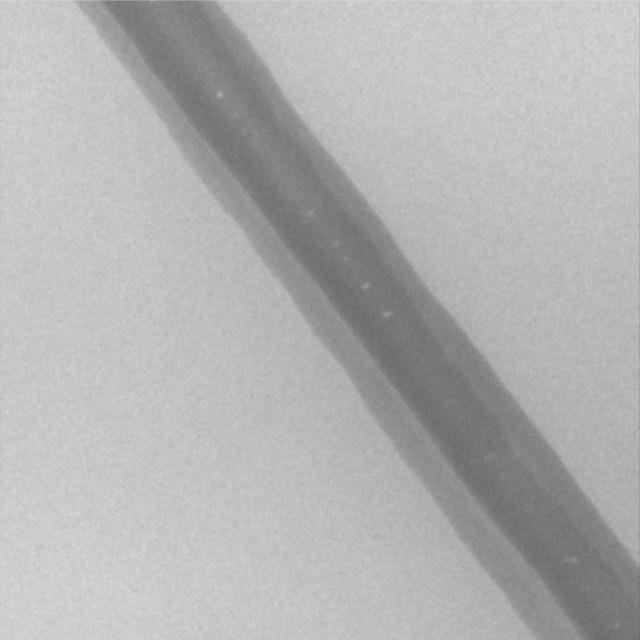air hole: (561, 555, 578, 565), (304, 209, 315, 220), (380, 310, 395, 318), (214, 90, 223, 100), (360, 282, 369, 290)
